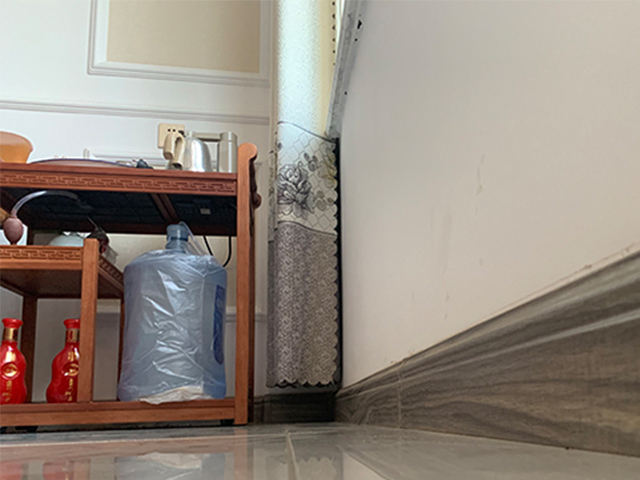curtain: (265, 1, 341, 388)
table: (1, 141, 259, 426)
